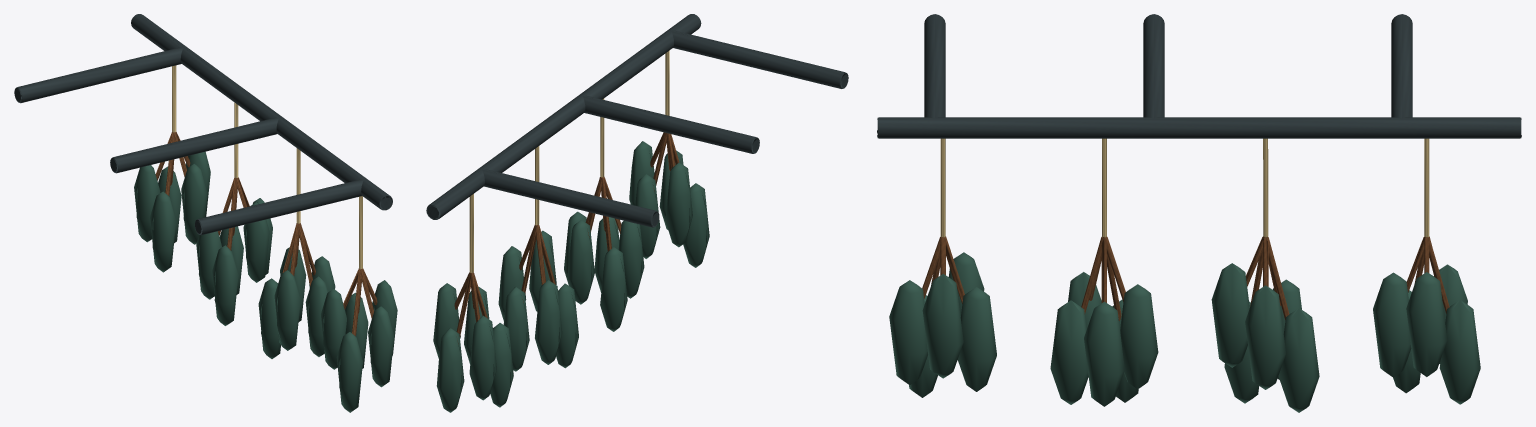
The model's file is herb_rack.glb.
The picture shows the model from 3 angles, left to right: view 1: azimuth 30°, elevation 25°; view 2: azimuth 150°, elevation 25°; view 3: azimuth 270°, elevation 25°; orthographic projection. The views are drawn at different scales.
Parts seen in each view (by area): view 1: Herb Rack; view 2: Herb Rack; view 3: Herb Rack.
Part boxes in pixels (x1,y1,x2,y2): Herb Rack: (14, 14, 397, 412); Herb Rack: (426, 14, 848, 412); Herb Rack: (877, 14, 1521, 412).
Size of the model in its own units: 0.7238 by 0.7931 by 1.56.
4 materials, 3 textured.
